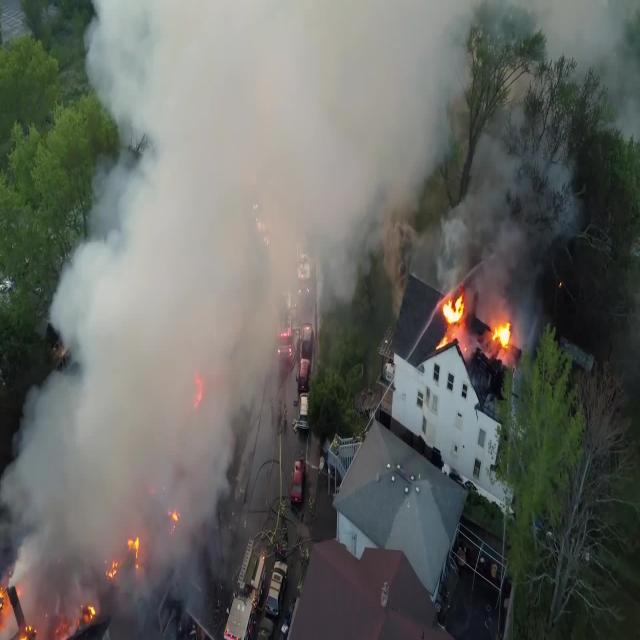Fire: (0, 479, 181, 640), (439, 293, 513, 359), (187, 370, 209, 431)
